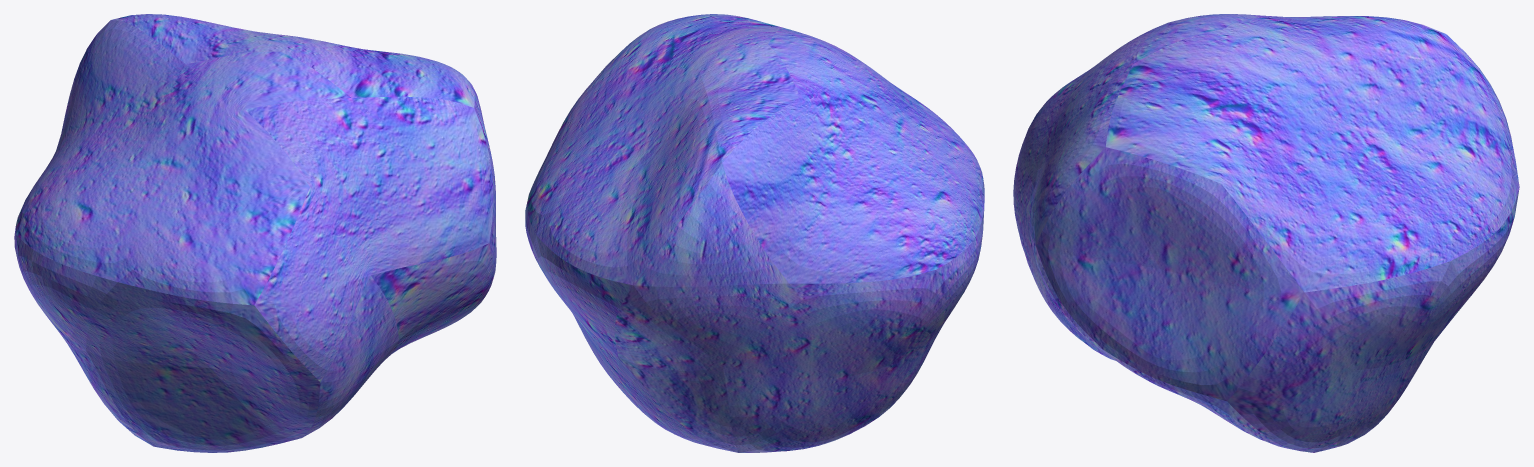
Rendered from smallasteroid1_LOD1.fbx.
3 renders of one model, left to right at view 1: azimuth 30°, elevation 25°; view 2: azimuth 150°, elevation 25°; view 3: azimuth 270°, elevation 25°, orthographic. The views are drawn at different scales.
Parts seen in each view (by area): view 1: Icosphere; view 2: Icosphere; view 3: Icosphere.
Boxes of the visible parts, bbox=[...] form: Icosphere: bbox=[14, 14, 496, 452]; Icosphere: bbox=[525, 14, 984, 452]; Icosphere: bbox=[1013, 14, 1519, 452].
Bounding box in the file's own units: 275 × 232 × 271.
